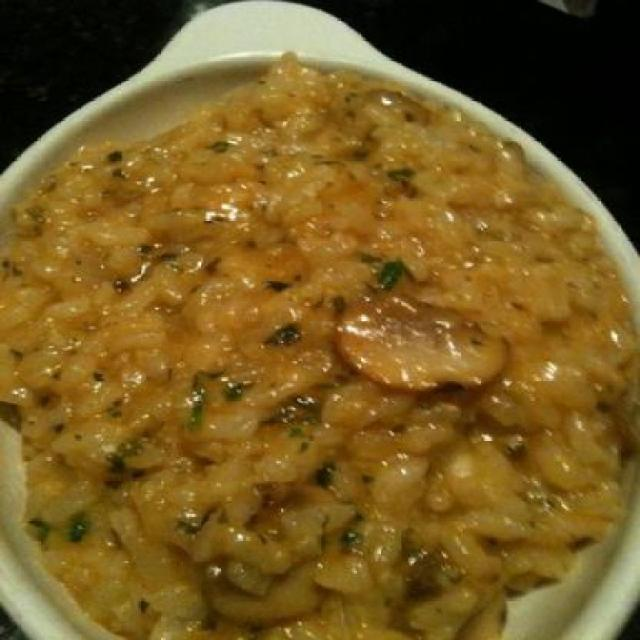Risotto: (33, 76, 609, 621)
